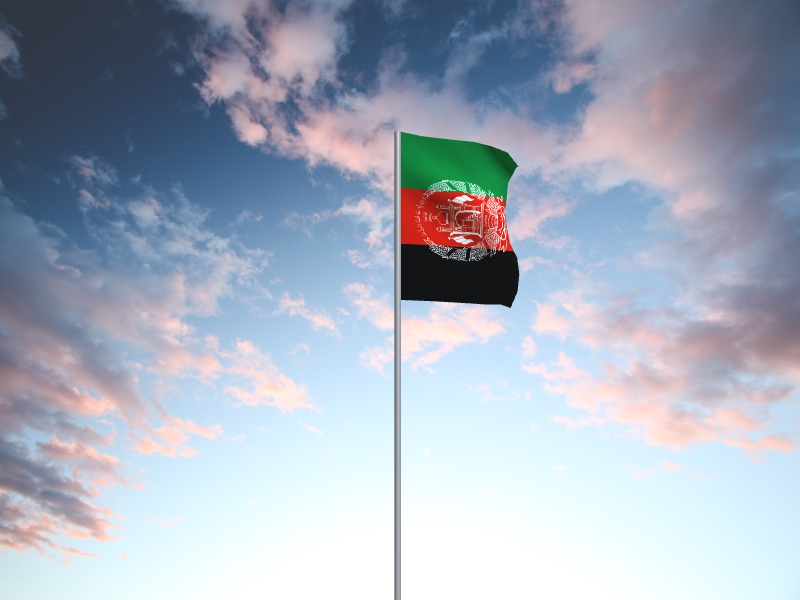af: (401, 133, 521, 310)
